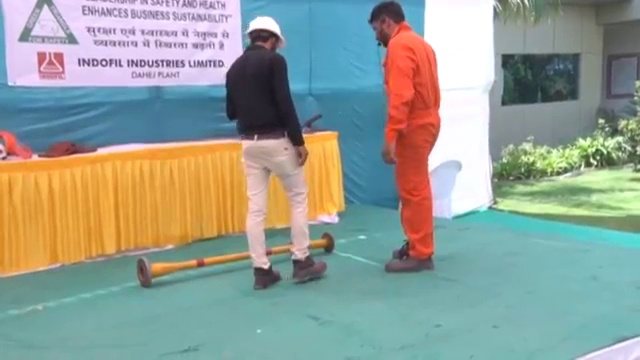helmet: (245, 15, 286, 48)
helmet_off: (366, 3, 406, 51)
helmet_on: (242, 14, 286, 54)
person: (224, 15, 329, 287), (363, 2, 443, 274)
